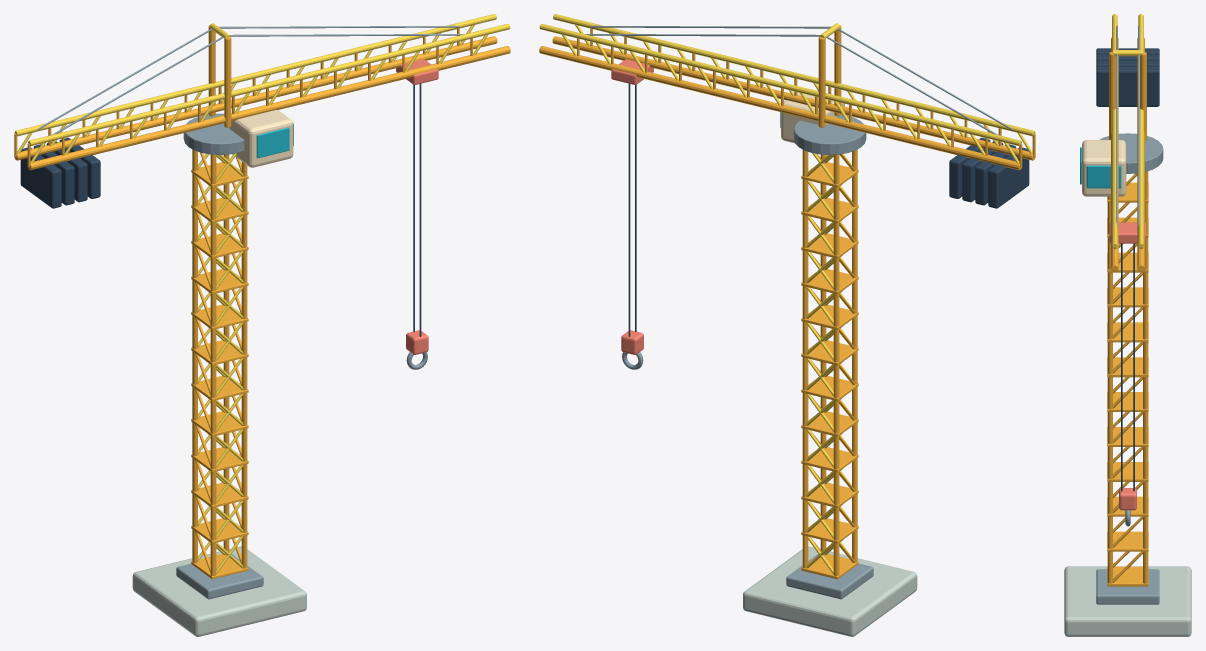
Rendered from SM_TowerCrane.fbx.
3 renders of one model, left to right at view 1: azimuth 30°, elevation 25°; view 2: azimuth 150°, elevation 25°; view 3: azimuth 270°, elevation 25°, orthographic. The views are drawn at different scales.
Visible parts, largest first — view 1: Crane concrete plinth, Main jib lower chord, Main jib lower chord.001, Main jib upper chord, Main jib upper chord.001, Operator cab, Crane base frame, Slewing platform, Concrete counterweight, Operator side glass, Hoist cable, Concrete counterweight.001 (+2 smaller); view 2: Crane concrete plinth, Main jib lower chord.001, Main jib lower chord, Main jib upper chord.001, Main jib upper chord, Slewing platform, Crane base frame, Concrete counterweight, Operator cab, Hoist cable.001, Concrete counterweight.001, A frame right (+13 smaller); view 3: Crane concrete plinth, Concrete counterweight.003, Crane base frame, Operator cab, Slewing platform, Main jib upper chord, Main jib upper chord.001, Operator front glass, Mast horizontal collar, Mast horizontal collar.001, Mast horizontal collar.006, Mast horizontal collar.007 (+21 smaller).
Part boxes in pixels (x1,y1,x2,y2): Crane concrete plinth: (132,546,306,636); Main jib lower chord: (27,46,510,170); Main jib lower chord.001: (14,36,497,160); Main jib upper chord: (28,24,510,146); Main jib upper chord.001: (14,14,496,136); Operator cab: (229,110,293,167); Crane base frame: (176,554,263,599); Slewing platform: (183,113,244,154); Concrete counterweight: (20,147,61,208); Operator side glass: (256,127,289,158); Hoist cable: (419,83,421,336); Concrete counterweight.001: (33,144,74,205); Crane concrete plinth: (743,546,917,636); Main jib lower chord.001: (539,46,1022,170); Main jib lower chord: (552,36,1035,160); Main jib upper chord.001: (539,24,1021,146); Main jib upper chord: (553,14,1035,136); Slewing platform: (794,114,866,154); Crane base frame: (786,554,873,599); Concrete counterweight: (988,147,1029,208); Operator cab: (781,92,844,143); Hoist cable.001: (628,83,630,336); Concrete counterweight.001: (975,144,1016,205); A frame right: (818,37,825,127); Crane concrete plinth: (1064,566,1191,636); Concrete counterweight.003: (1096,66,1159,106); Crane base frame: (1096,569,1159,604); Operator cab: (1082,140,1126,196); Slewing platform: (1099,133,1163,173); Main jib upper chord: (1112,14,1117,247); Main jib upper chord.001: (1138,14,1143,247); Operator front glass: (1086,165,1121,188); Mast horizontal collar: (1107,566,1148,586); Mast horizontal collar.001: (1107,531,1148,551); Mast horizontal collar.006: (1107,357,1148,377); Mast horizontal collar.007: (1107,322,1148,342).
Size of the model in its own units: 14.14 by 16.08 by 3.3.
